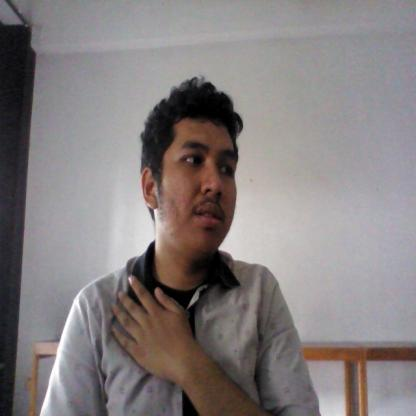Saya: (107, 274, 206, 392)
